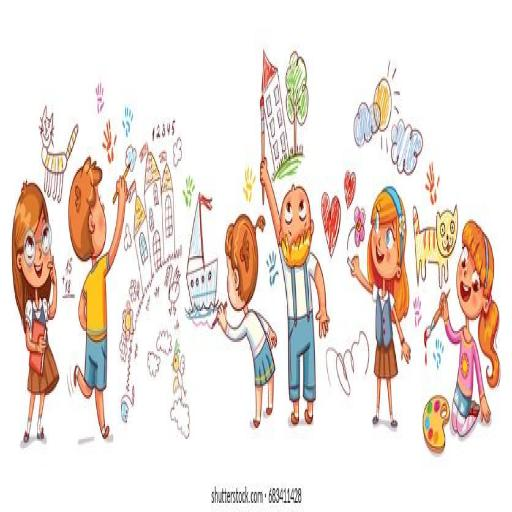person: (259, 142, 328, 430), (66, 150, 129, 454), (349, 183, 412, 435), (211, 204, 278, 440), (439, 214, 503, 447), (9, 180, 59, 450)
